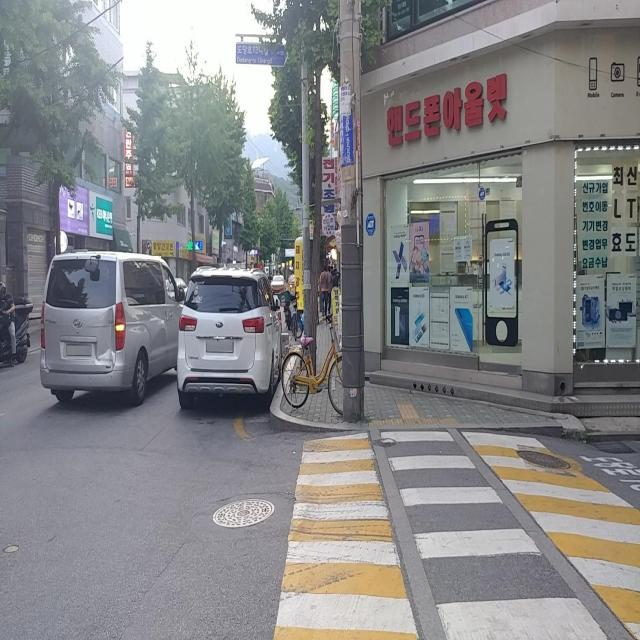횡단보도: (379, 428, 609, 638)
